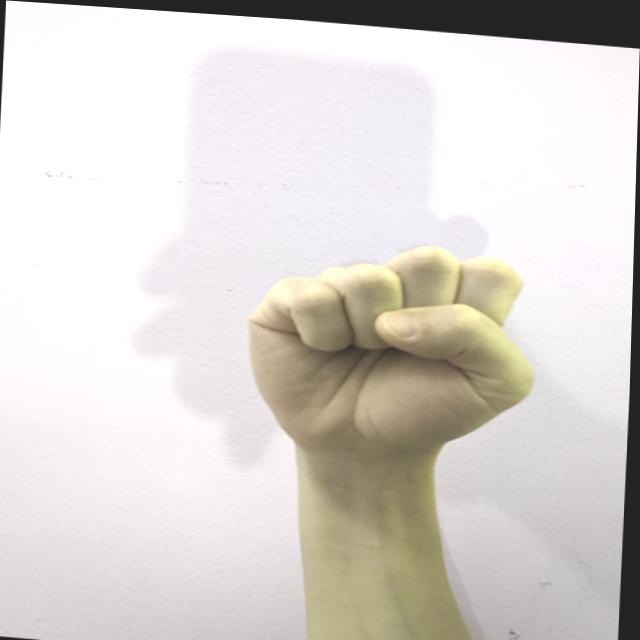S: (236, 223, 550, 469)
